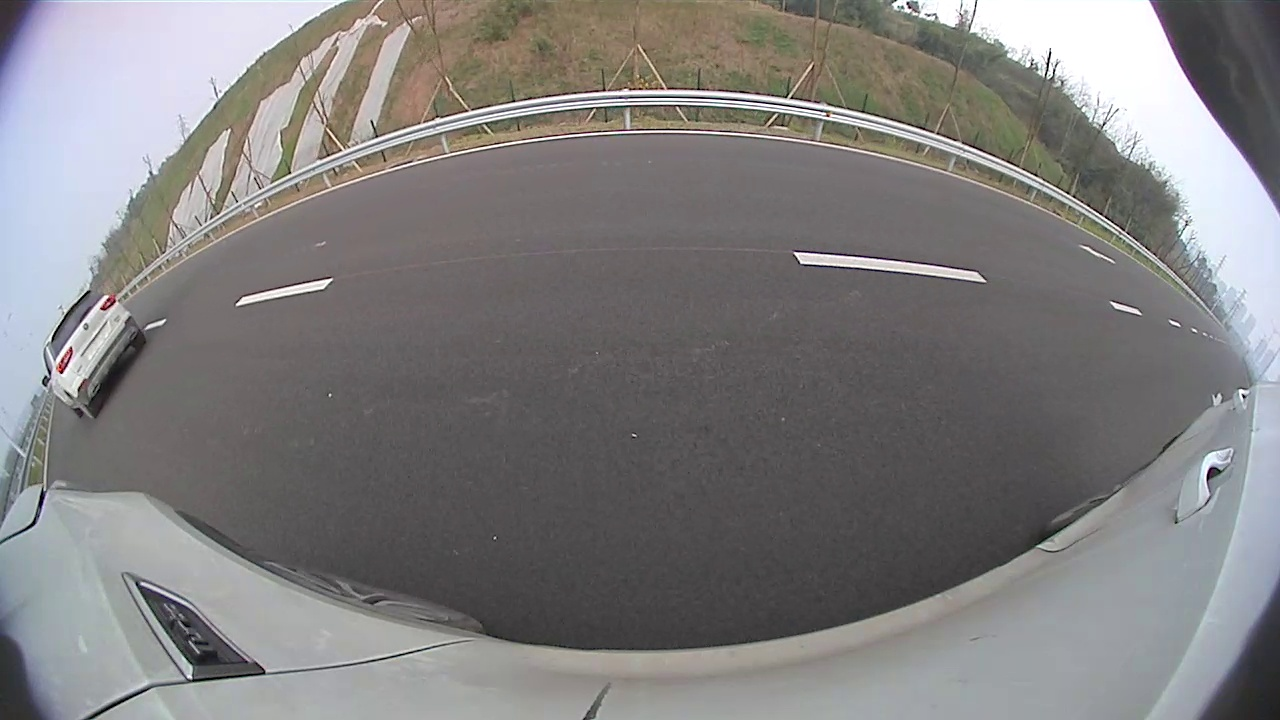car: (41, 290, 147, 420)
